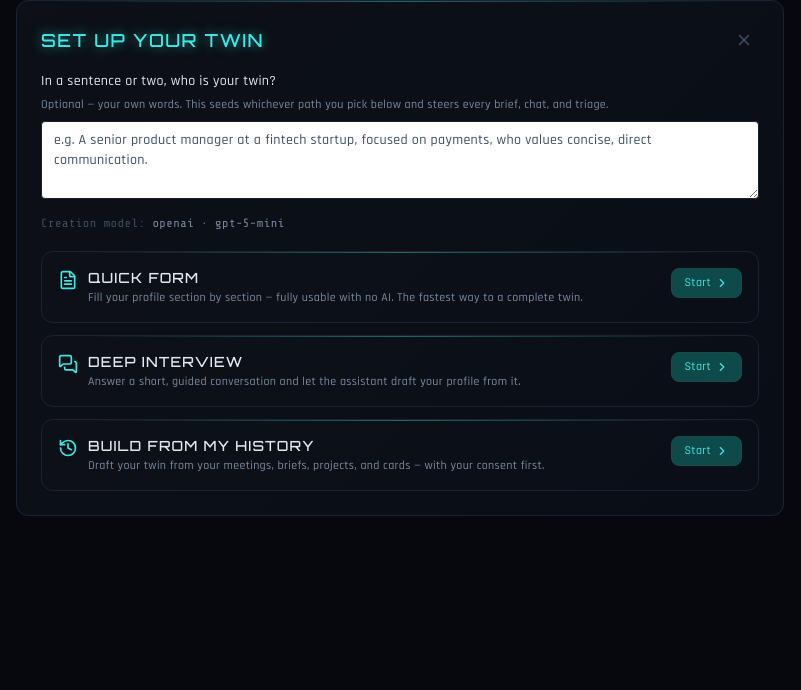
Test: TwinWizard — Quick form optional AI assist › drafts field values from a mocked AI response without auto-advancing
Click the button with aria-label "start quick form". click: (707, 283)
box: [671,268,742,298]
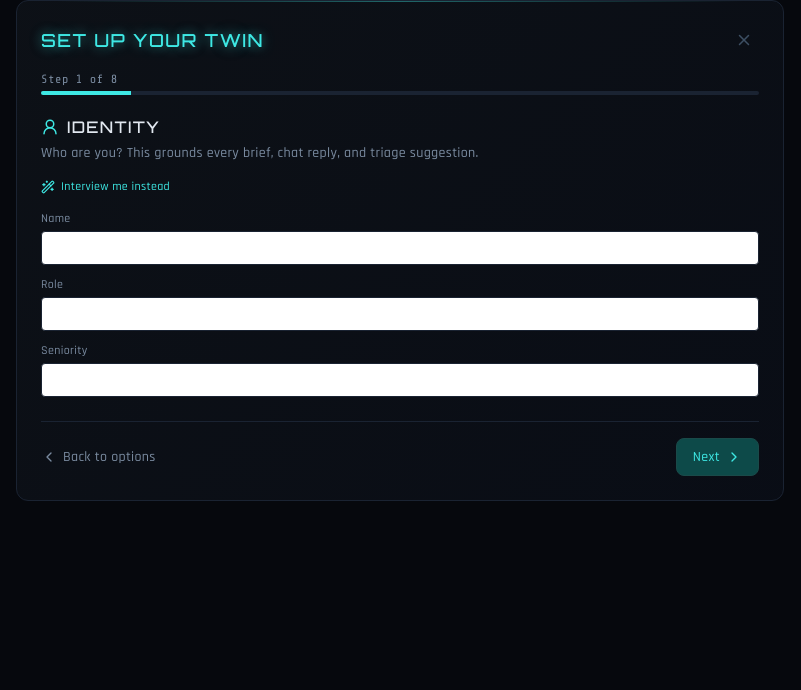
Click the button "Interview me instead". click: (106, 187)
box: [41,179,170,195]
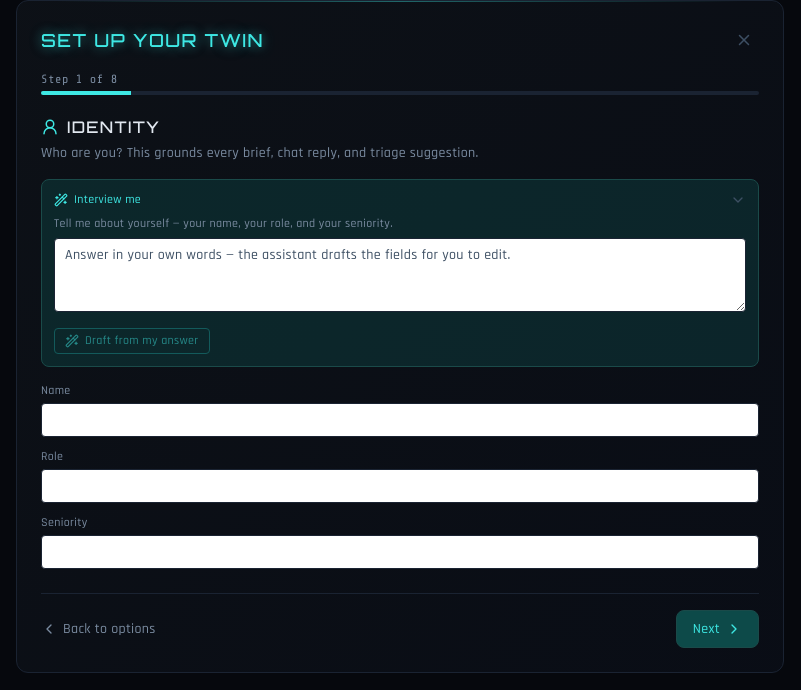
Replace the text in the text box with placeholder "Answer in your own words" with "I'm Ada, a founder". click: (400, 275)
box: [54,238,746,312]
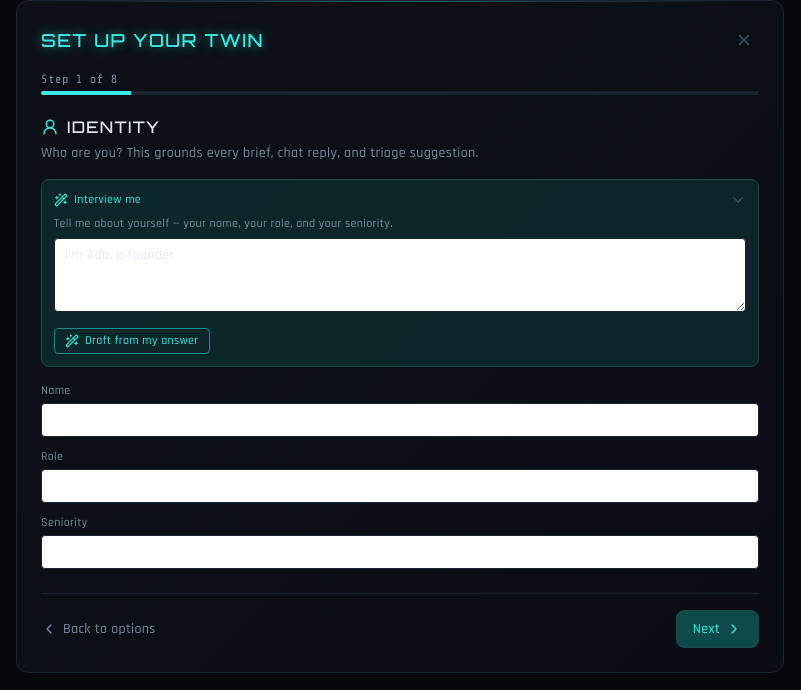
Click the button "Draft from my answer". click: (132, 341)
box: [54,328,210,354]
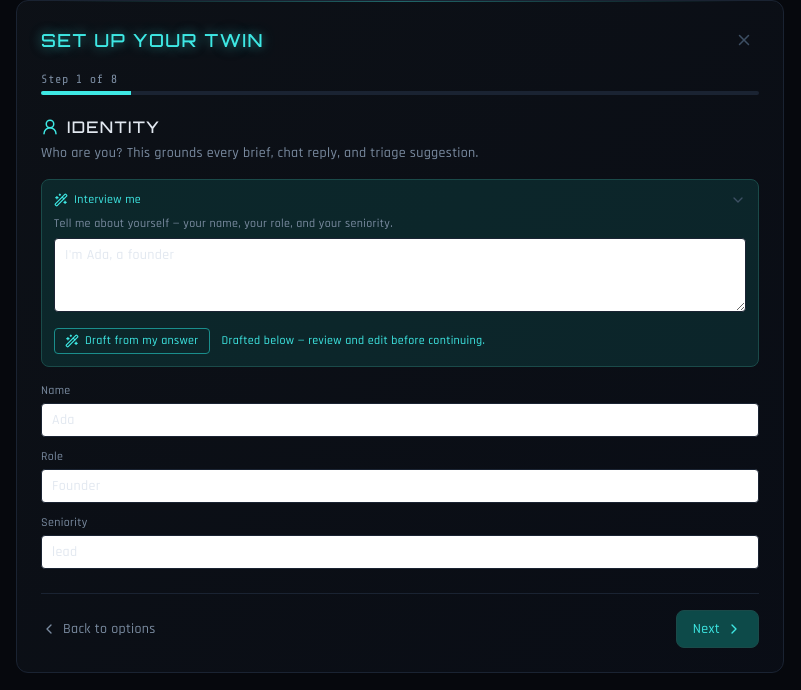
Expected: the field showing "Ada" is shown, [41,403,759,437]
Expected: the field showing "Founder" is shown, [41,469,759,503]
Expected: the text "Drafted below — review and edit before continuing." is shown, [222,333,485,349]
